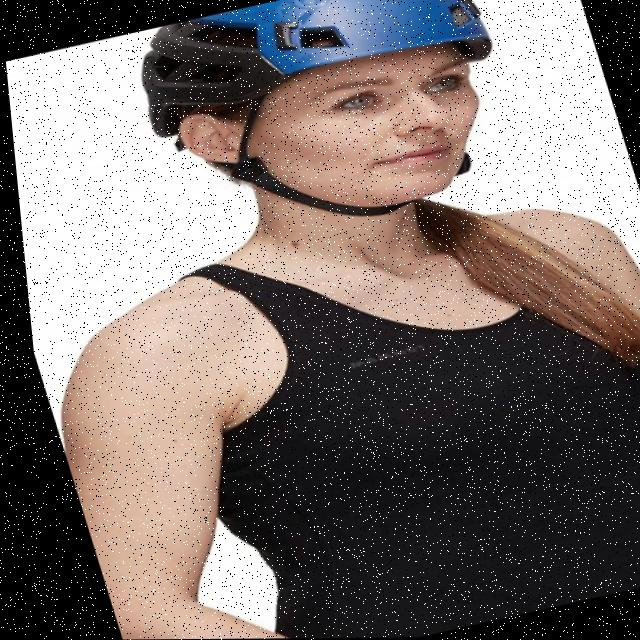illegal_helmet: (104, 0, 558, 270)
